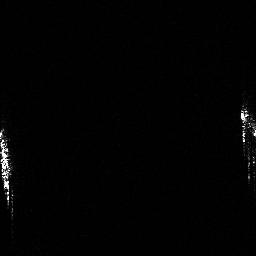ship: (237, 102, 256, 182), (1, 126, 16, 214)
